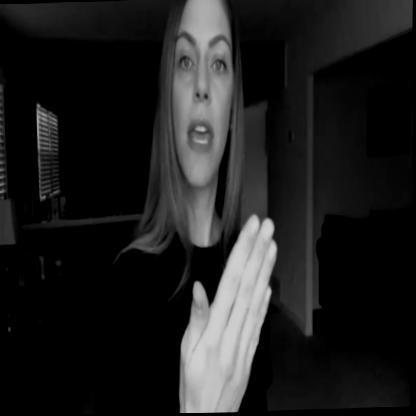ThankYou: (146, 0, 295, 414)
